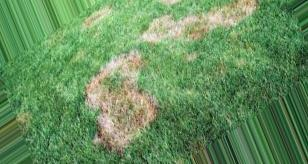patch: (98, 72, 135, 143), (156, 18, 220, 27), (131, 95, 147, 125), (113, 56, 137, 75), (149, 28, 193, 38), (212, 8, 241, 22)
